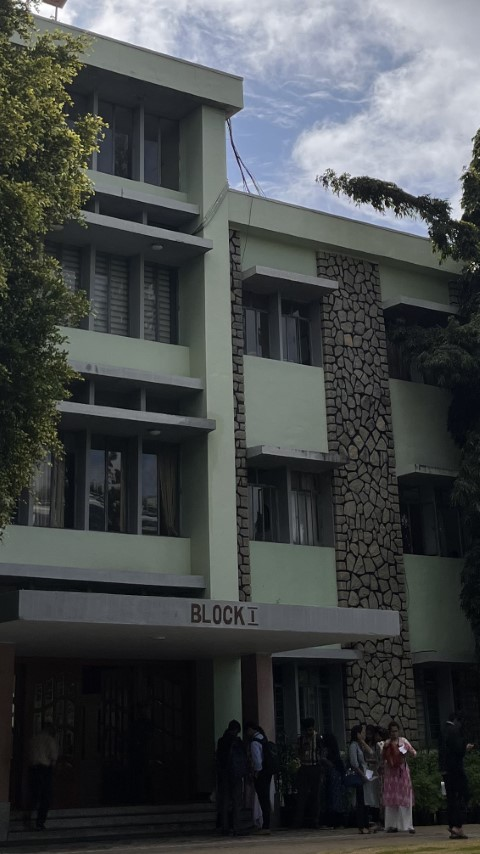Block 1: (22, 19, 470, 744)
